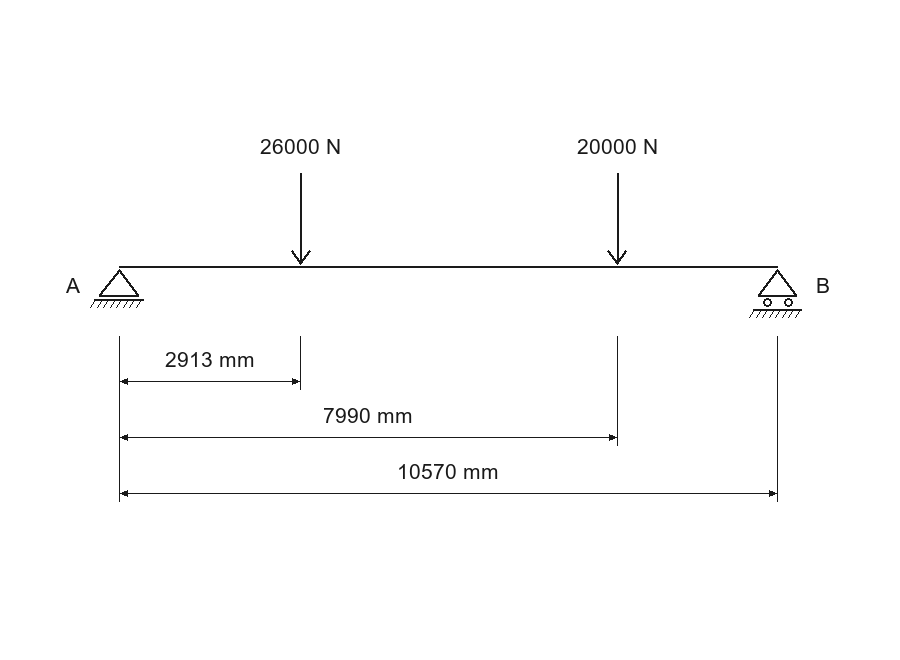pin_support: (90, 269, 144, 308)
point_load: (291, 173, 311, 265), (607, 173, 627, 265)
roller_support: (749, 269, 802, 318)
